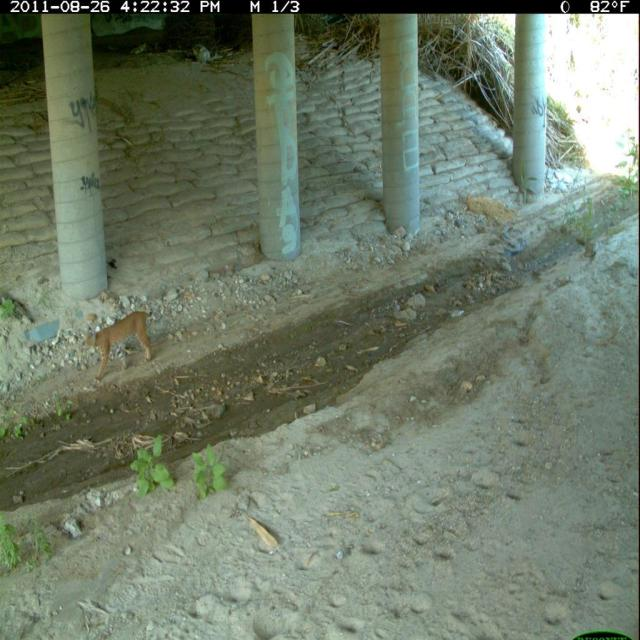bobcat: (82, 305, 158, 387)
